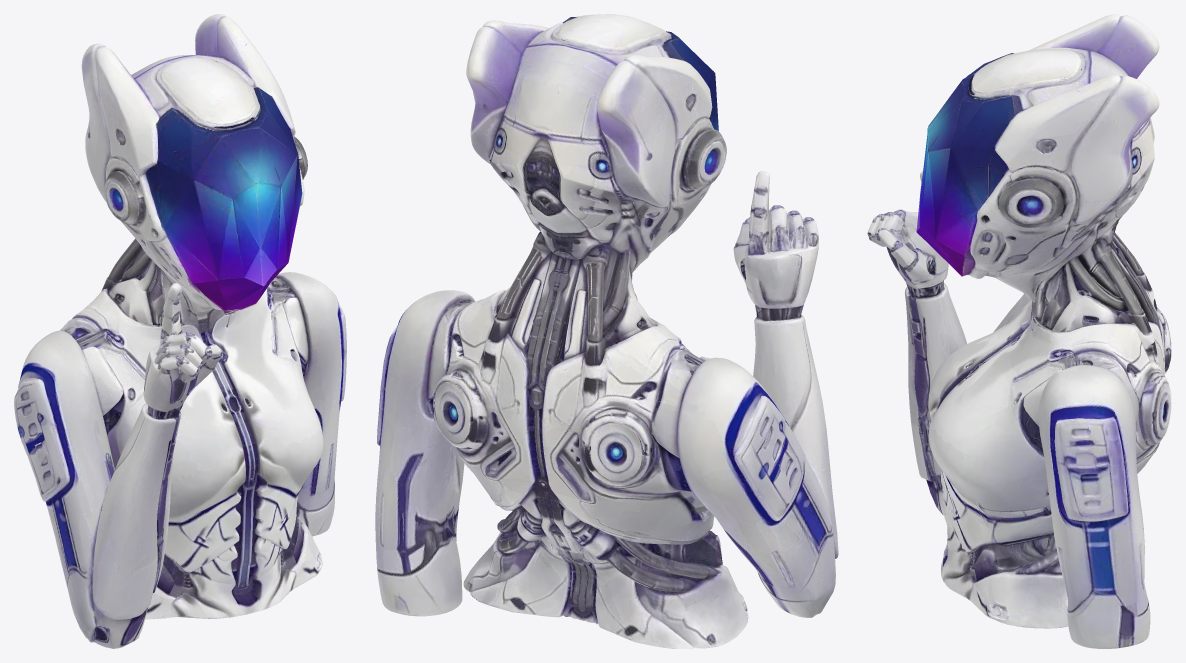
The model's file is orthomind-robot.glb.
3 views of the same model, side by side, from view 1: azimuth 30°, elevation 25°; view 2: azimuth 150°, elevation 25°; view 3: azimuth 270°, elevation 25° (orthographic). The views are drawn at different scales.
Visible parts, largest first — view 1: Mesh_0; view 2: Mesh_0; view 3: Mesh_0.
Boxes of the visible parts, x1,y1,x2,y2 form: Mesh_0: [14, 14, 346, 648]; Mesh_0: [375, 14, 838, 648]; Mesh_0: [867, 14, 1171, 648].
Size of the model in its own units: 1.23 by 1.9 by 0.9917.
1 material, 1 textured.
